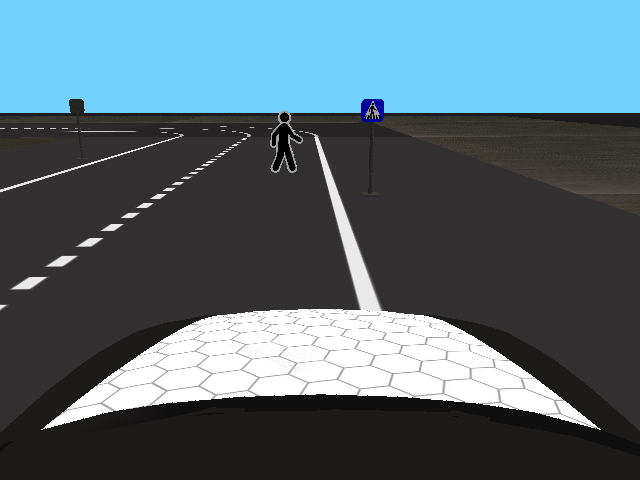pedestrian: (268, 110, 304, 175)
pedestrian_cross: (361, 99, 385, 124)
